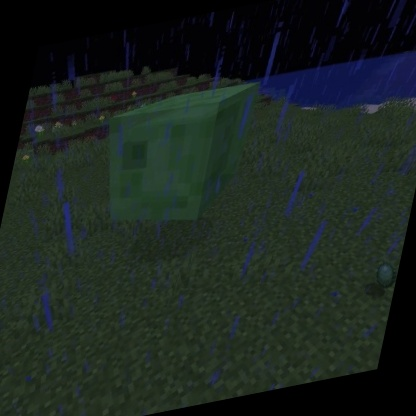slime: (77, 72, 266, 249)
